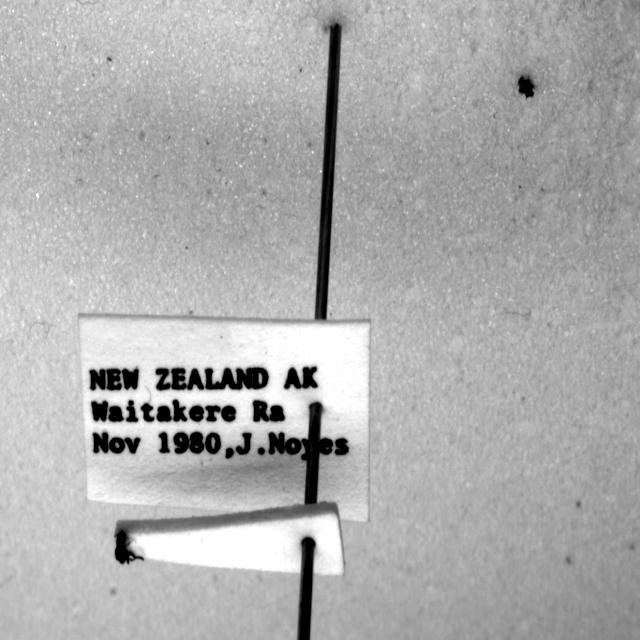typed_label: (79, 315, 370, 521)
